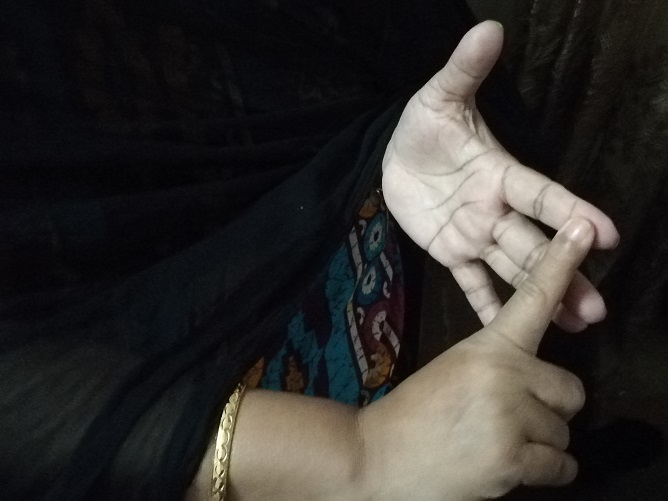o: (403, 48, 604, 429)
